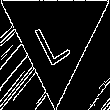L_NW: (32, 7, 78, 66)
